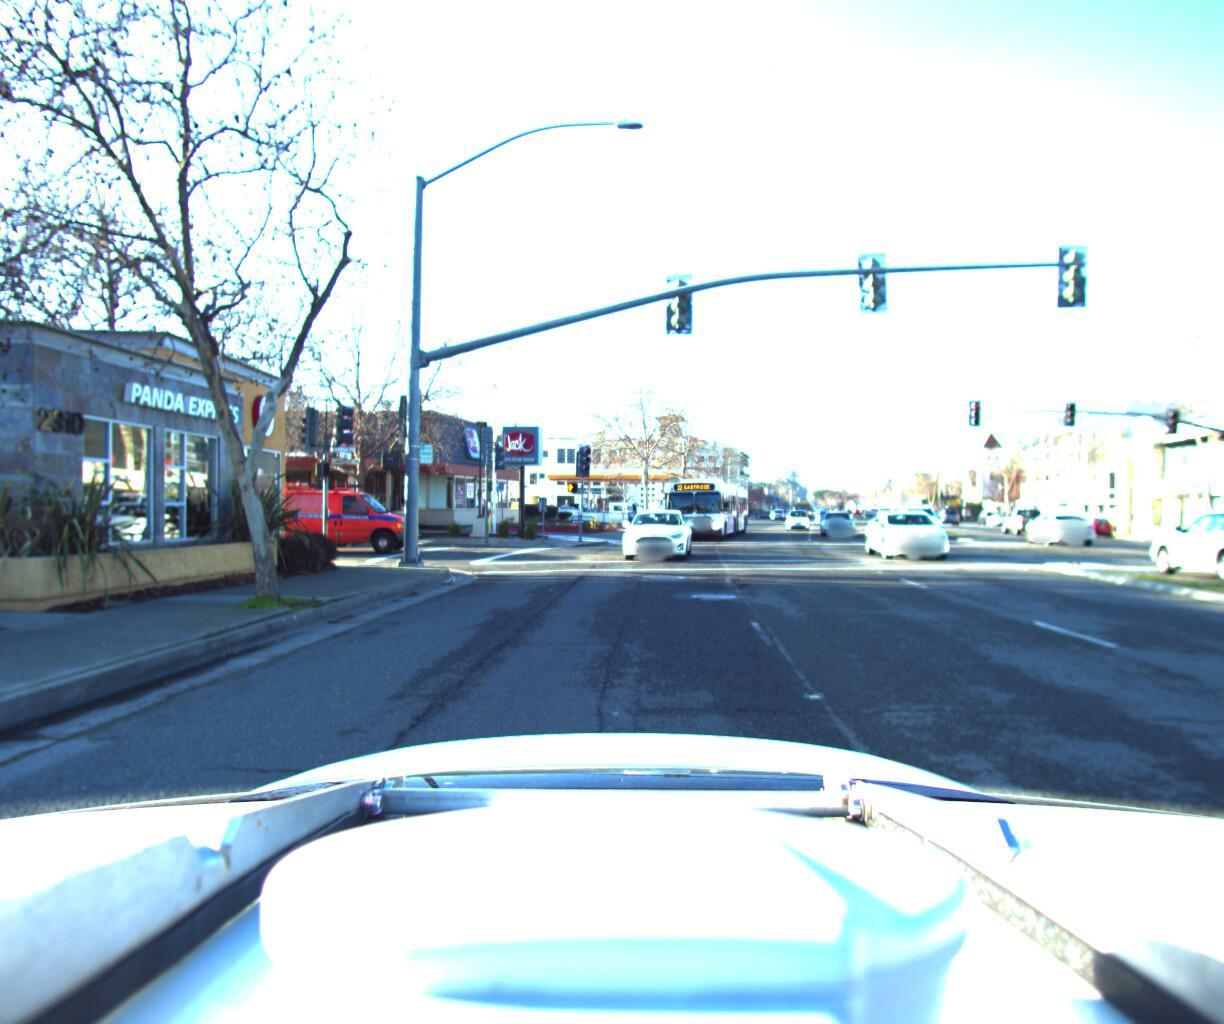bus: (653, 463, 757, 542)
car: (228, 480, 422, 552), (1137, 495, 1224, 589), (871, 498, 980, 558), (617, 496, 695, 561), (1013, 501, 1086, 538), (995, 499, 1052, 530), (818, 500, 858, 533), (1069, 505, 1114, 529), (783, 499, 812, 524)
